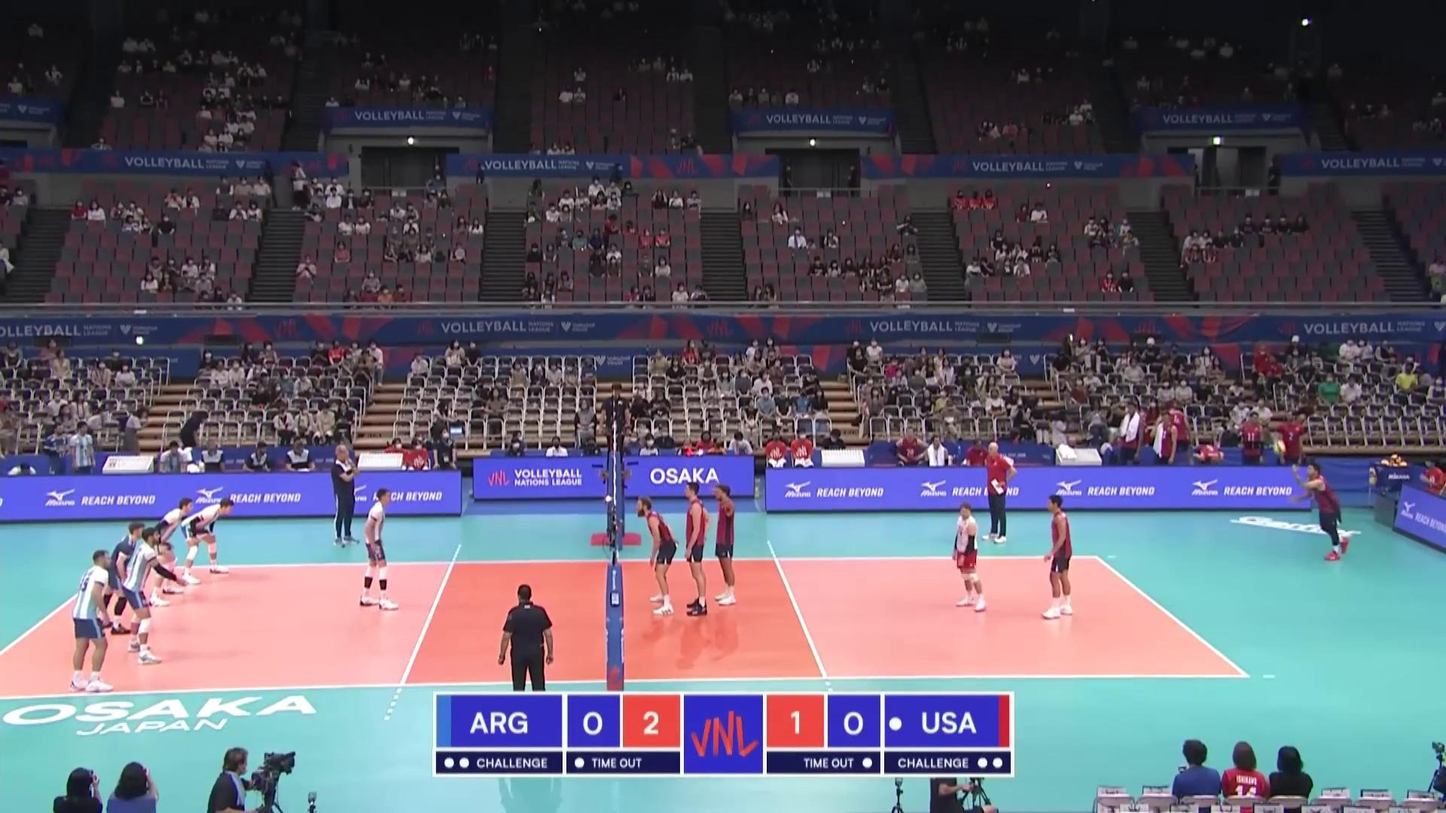player: (122, 528, 175, 666), (93, 521, 147, 634), (1290, 463, 1351, 563), (69, 550, 111, 694), (148, 498, 194, 606), (637, 496, 676, 618), (361, 490, 399, 614), (181, 499, 233, 586), (949, 503, 987, 611), (682, 482, 712, 617), (1043, 495, 1075, 620), (712, 485, 738, 606)
refree: (500, 584, 555, 705), (601, 382, 630, 465)
